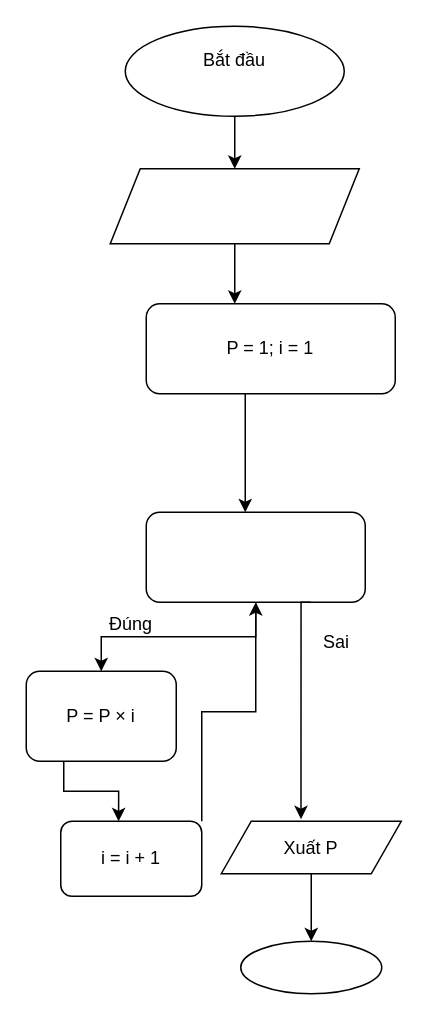
The diagram is 428 pixels wide and 1020 high, and some of its shapes have lost their labels. Here are the shapes that lost their labels. From the top down, the centre of each, then its label:
the point at 234,205: Nhập n
the point at 255,556: i ≤ n?
the point at 310,967: Kết thúc
